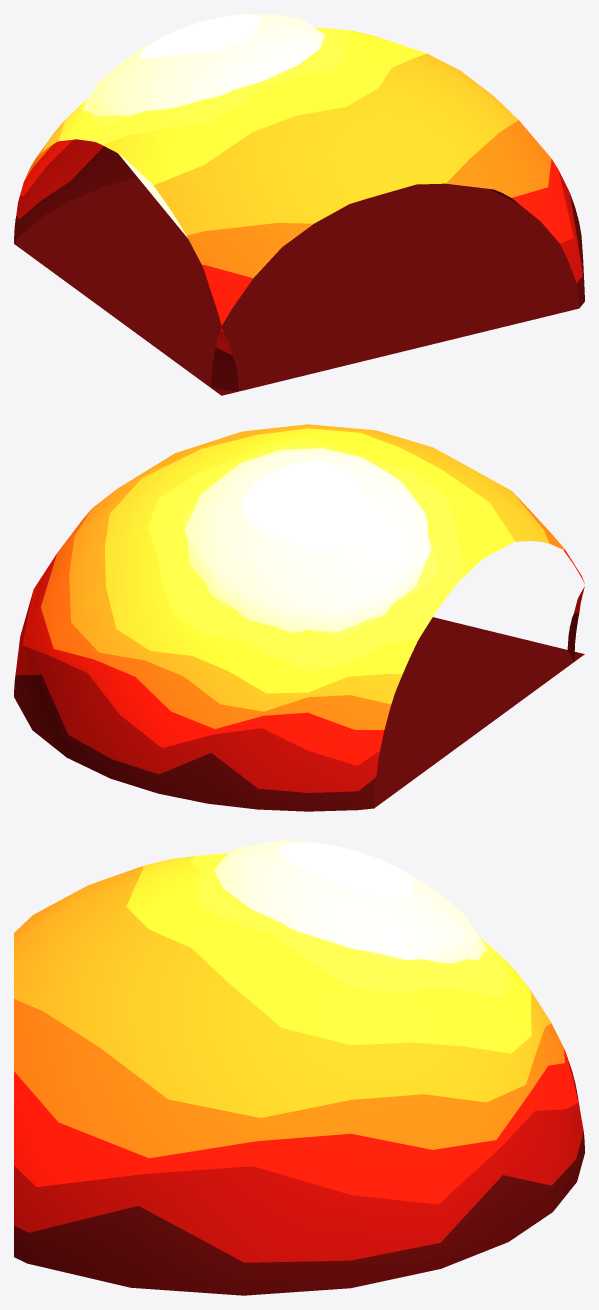
The model's file is shot_charge_b204.glb.
3 renders of one model, top to bottom at view 1: azimuth 30°, elevation 25°; view 2: azimuth 150°, elevation 25°; view 3: azimuth 270°, elevation 25°, orthographic. The views are drawn at different scales.
Parts seen in each view (by area): view 1: charge_twin2_a_fire_shot_charge_b204, charge_twin2_a_core_shot_charge_b204, charge_twin2_b_fire_shot_charge_b204; view 2: charge_twin2_a_fire_shot_charge_b204, charge_twin2_a_core_shot_charge_b204; view 3: charge_twin2_a_fire_shot_charge_b204, charge_twin2_a_core_shot_charge_b204.
Boxes of the visible parts, box(x1,y1,x2,y2) form: charge_twin2_a_fire_shot_charge_b204: box(14, 27, 584, 395); charge_twin2_a_core_shot_charge_b204: box(83, 14, 325, 237); charge_twin2_b_fire_shot_charge_b204: box(211, 328, 238, 394); charge_twin2_a_fire_shot_charge_b204: box(14, 424, 584, 811); charge_twin2_a_core_shot_charge_b204: box(185, 448, 430, 632); charge_twin2_a_fire_shot_charge_b204: box(14, 853, 584, 1295); charge_twin2_a_core_shot_charge_b204: box(214, 840, 487, 963).
Bounding box in the file's own units: 10 × 5.37 × 10.
